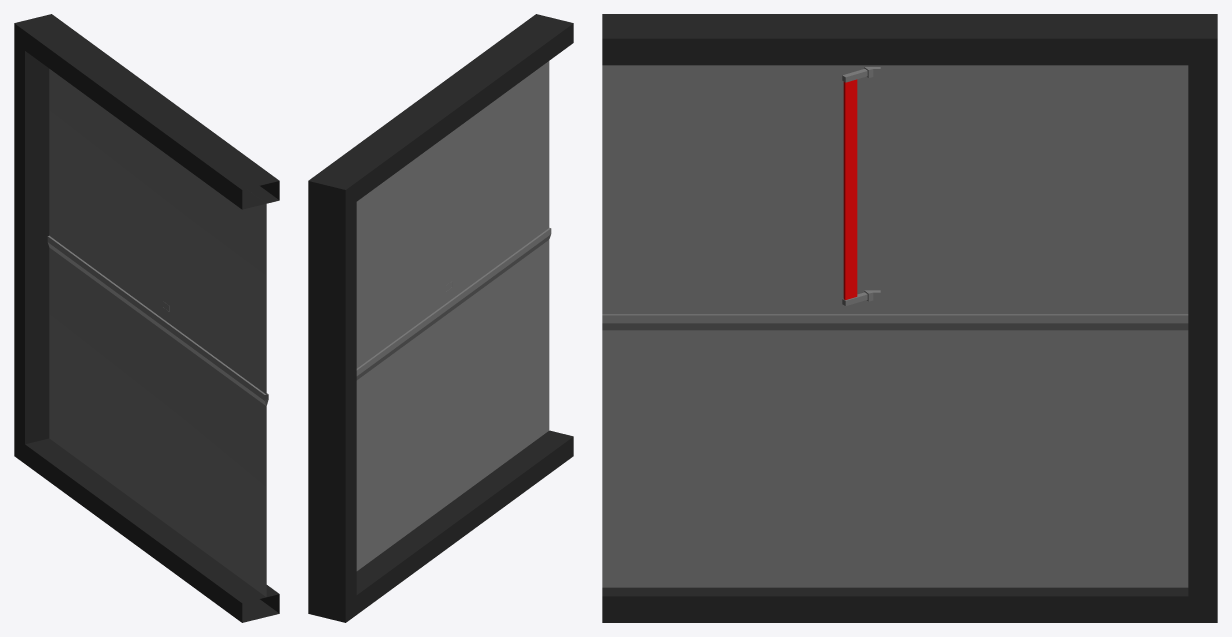
Rendered from Door.fbx.
3 renders of one model, left to right at view 1: azimuth 30°, elevation 25°; view 2: azimuth 150°, elevation 25°; view 3: azimuth 270°, elevation 25°, orthographic. The views are drawn at different scales.
Parts seen in each view (by area): view 1: Door_Frame.002, Door_Frame, Door_Frame.004, Door_Frame.001; view 2: Door_Frame, Door_Frame.002, Door_Frame.004, Door_Frame.001; view 3: Door_Frame.002, Door_Frame.004, Door_Frame, Door_Frame.001, Door_Frame.003.
Part boxes in pixels (x1,y1,x2,y2): Door_Frame.002: (49,247,266,596); Door_Frame: (14,14,279,622); Door_Frame.004: (49,69,266,400); Door_Frame.001: (47,235,268,405); Door_Frame: (308,14,573,622); Door_Frame.002: (356,240,549,570); Door_Frame.004: (356,61,549,368); Door_Frame.001: (356,228,551,380); Door_Frame.002: (602,330,1188,587); Door_Frame.004: (602,65,1188,314); Door_Frame: (602,14,1217,622); Door_Frame.001: (602,314,1188,330); Door_Frame.003: (842,67,880,305).
Size of the model in its own units: 20.5 by 220 by 210.
